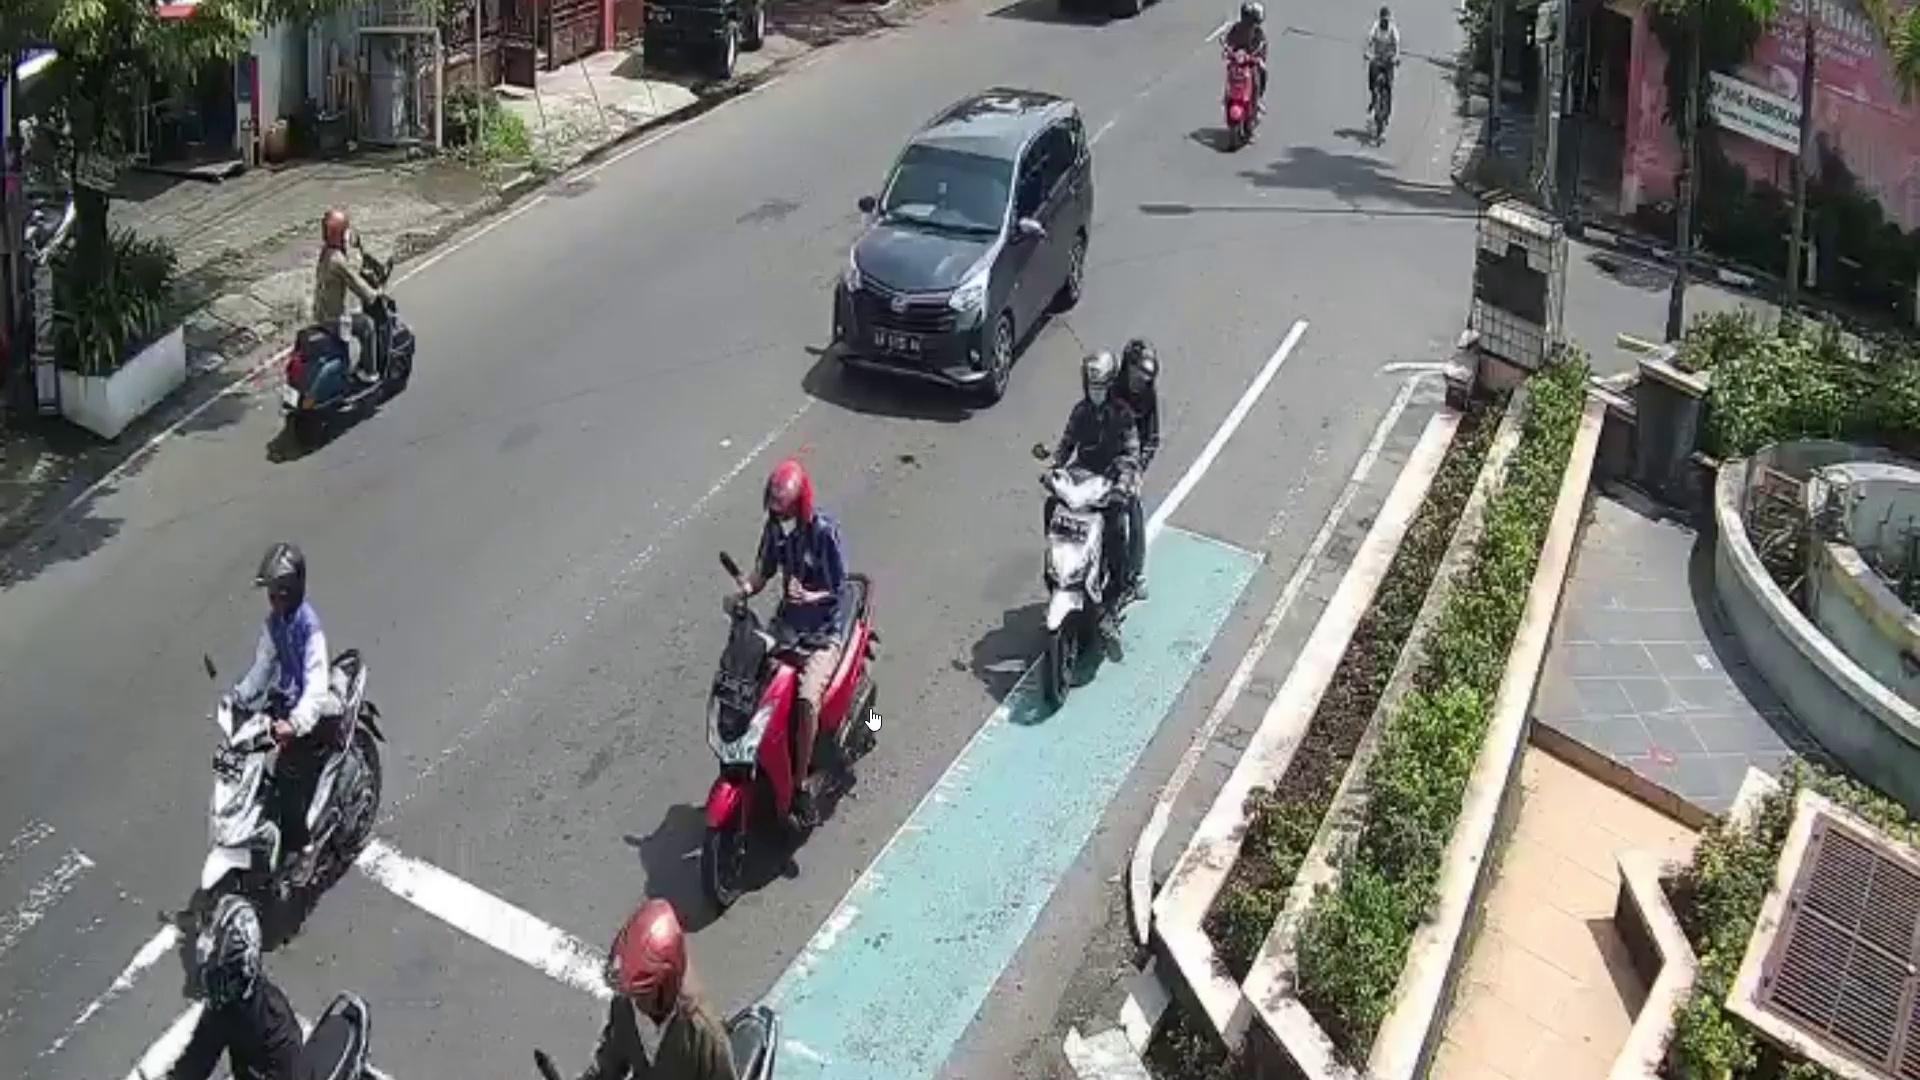car: (832, 94, 1096, 406)
motorbike: (703, 570, 882, 899), (200, 646, 385, 922), (281, 248, 417, 443), (1039, 463, 1109, 727), (1221, 45, 1265, 150)
